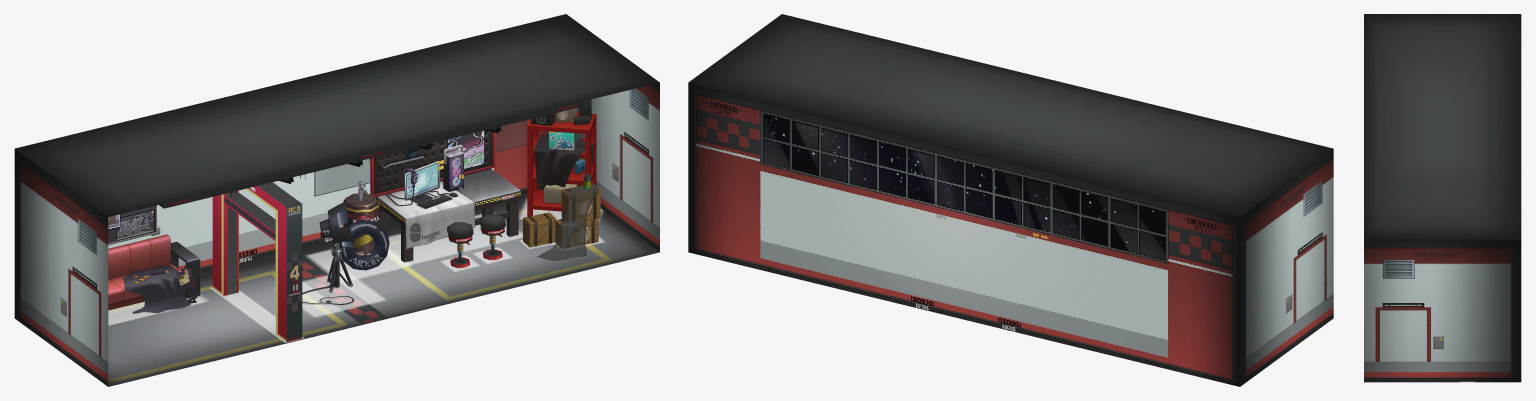
Rendered from penguin.glb.
The picture shows the model from 3 angles, left to right: view 1: azimuth 30°, elevation 25°; view 2: azimuth 150°, elevation 25°; view 3: azimuth 270°, elevation 25°; orthographic projection. The views are drawn at different scales.
Visible parts, largest first — view 1: ROOM_room, ROOM_floor, furni_penguin_table_01, furni_penguin_partitionGate_01, furni_penguin_shelf_01, furni_penguin_sofa_01, furni_penguin_boxes_01, furni_penguin_oilDrumSink_01, furni_penguin_ceiling_01, shadow.003, furni_penguin_sofa_02, furni_penguin_boxes_02 (+12 smaller); view 2: ROOM_room, ROOM_LDoor; view 3: ROOM_room, ROOM_RDoor.
Part boxes in pixels (x1,y1,x2,y2): ROOM_room: (14, 14, 659, 386); ROOM_floor: (108, 189, 659, 386); furni_penguin_table_01: (370, 130, 520, 262); furni_penguin_partitionGate_01: (212, 182, 302, 342); furni_penguin_shelf_01: (527, 99, 596, 216); furni_penguin_sofa_01: (108, 234, 200, 310); furni_penguin_boxes_01: (523, 172, 600, 248); furni_penguin_oilDrumSink_01: (340, 181, 389, 270); furni_penguin_ceiling_01: (159, 101, 584, 208); shadow.003: (275, 271, 386, 317); furni_penguin_sofa_02: (123, 265, 190, 313); furni_penguin_boxes_02: (537, 183, 598, 260); ROOM_room: (688, 14, 1333, 386); ROOM_LDoor: (1300, 251, 1319, 341); ROOM_room: (1364, 14, 1521, 382); ROOM_RDoor: (1387, 317, 1419, 382).
Bounding box in the file's own units: 7.67 × 2.2 × 2.23.
Materials: 7 (7 with a texture image).
